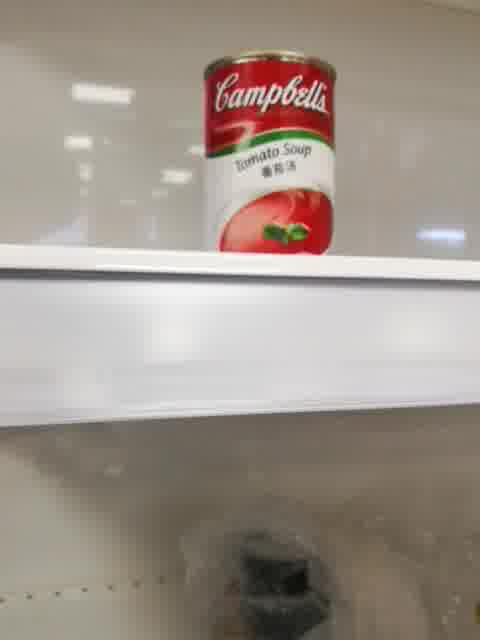tomatosoup: (200, 49, 338, 256)
